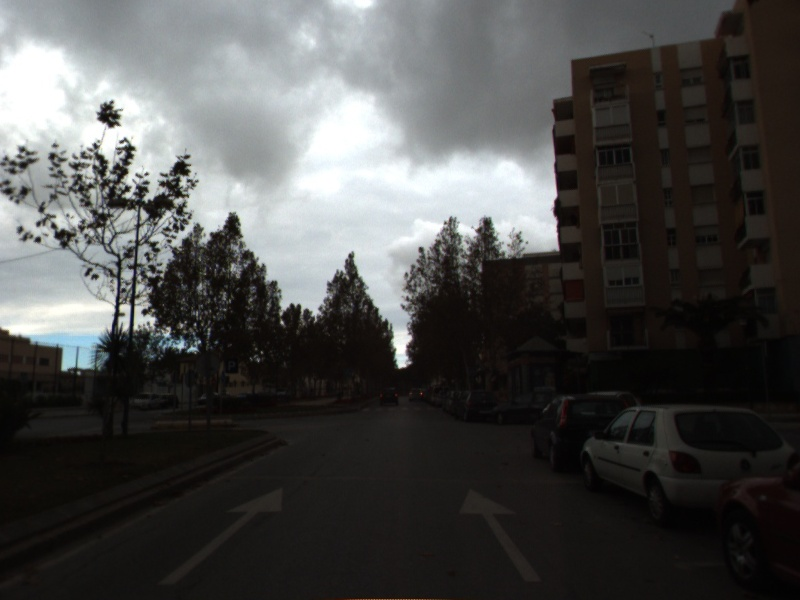STRAIGHT: (157, 484, 285, 587), (455, 484, 546, 585)
